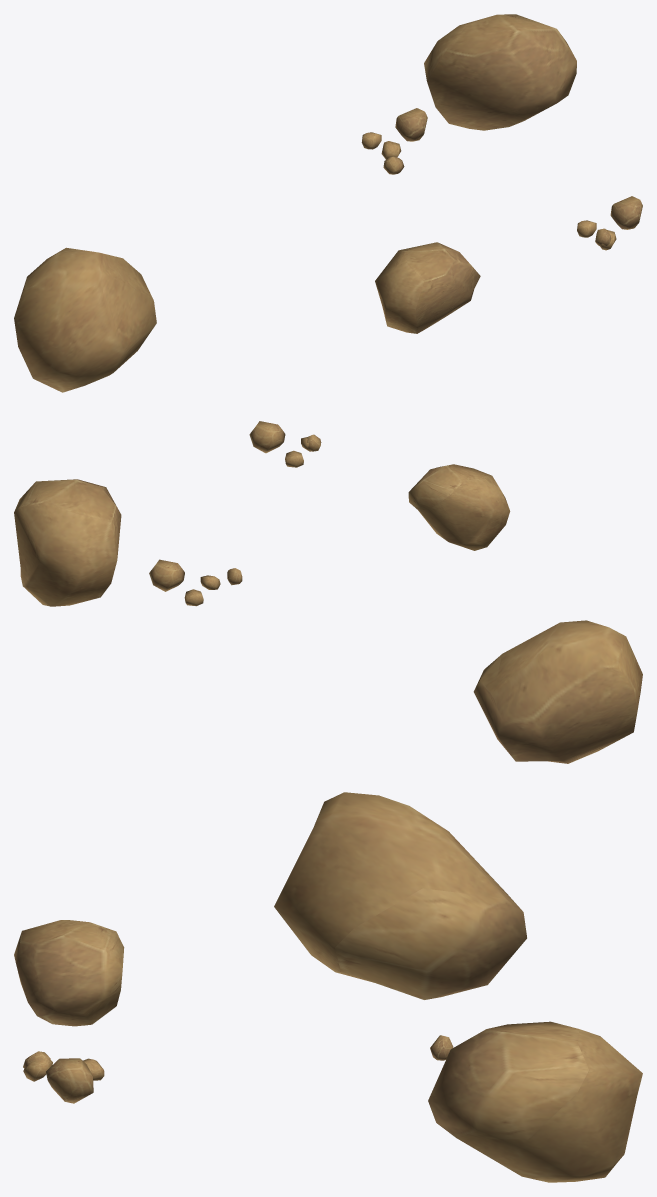
File: Rock04.FBX
3 views of the same model, one above another, from view 1: azimuth 30°, elevation 25°; view 2: azimuth 150°, elevation 25°; view 3: azimuth 270°, elevation 25° (orthographic). The views are drawn at different scales.
Visible parts, largest first — view 1: Rock04; view 2: Rock04; view 3: Rock04.
Boxes of the visible parts, x1,y1,x2,y2 form: Rock04: (14, 14, 642, 392); Rock04: (14, 421, 642, 763); Rock04: (14, 792, 642, 1182).
Bounding box in the file's own units: 1873 × 609 × 1225.
